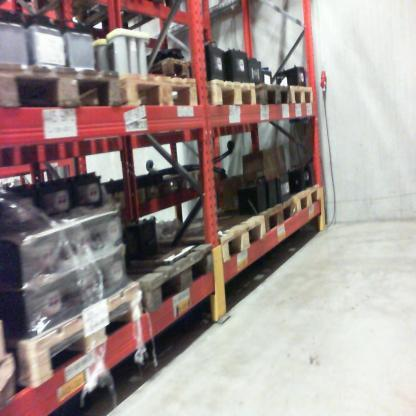pallets: (129, 186, 329, 311), (16, 271, 159, 394), (0, 71, 320, 121)
